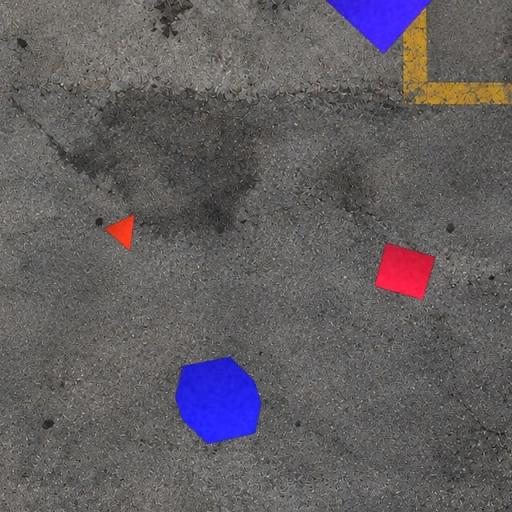BLUE_SQUARE: (320, 0, 446, 55)
RED_SQUARE: (374, 242, 436, 301)
